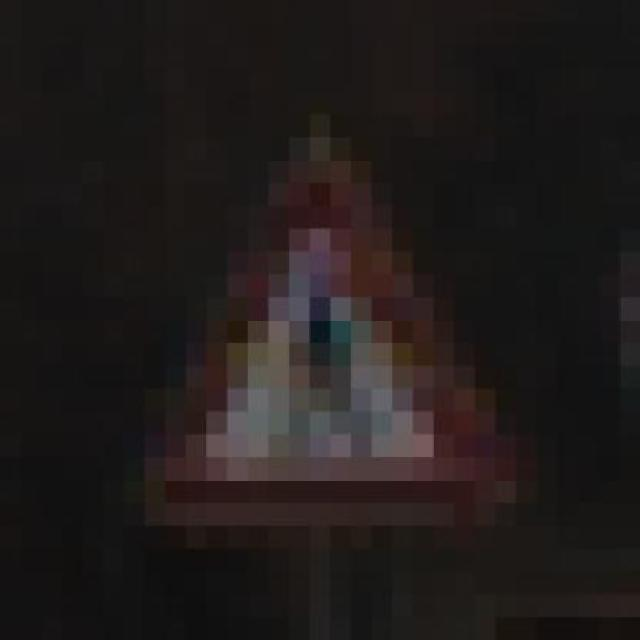Pedestrian Crossing: (103, 114, 537, 549)
